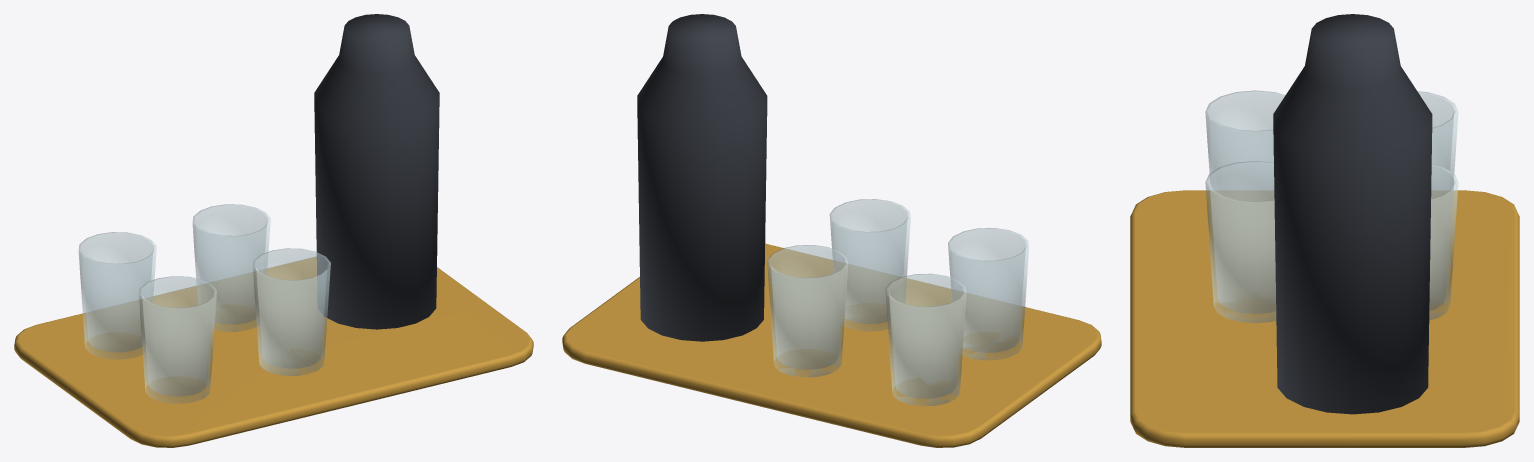
File: RmTrayCups.fbx
The picture shows the model from 3 angles, left to right: view 1: azimuth 30°, elevation 25°; view 2: azimuth 150°, elevation 25°; view 3: azimuth 270°, elevation 25°; orthographic projection. The views are drawn at different scales.
Visible parts, largest first — view 1: RmTrayCupsBody; view 2: RmTrayCupsBody; view 3: RmTrayCupsBody.
Boxes of the visible parts, <box> form: RmTrayCupsBody: <box>14,14,533,447</box>; RmTrayCupsBody: <box>562,14,1101,447</box>; RmTrayCupsBody: <box>1130,14,1519,447</box>.
Size of the model in its own units: 0.42 by 0.29 by 0.28.
